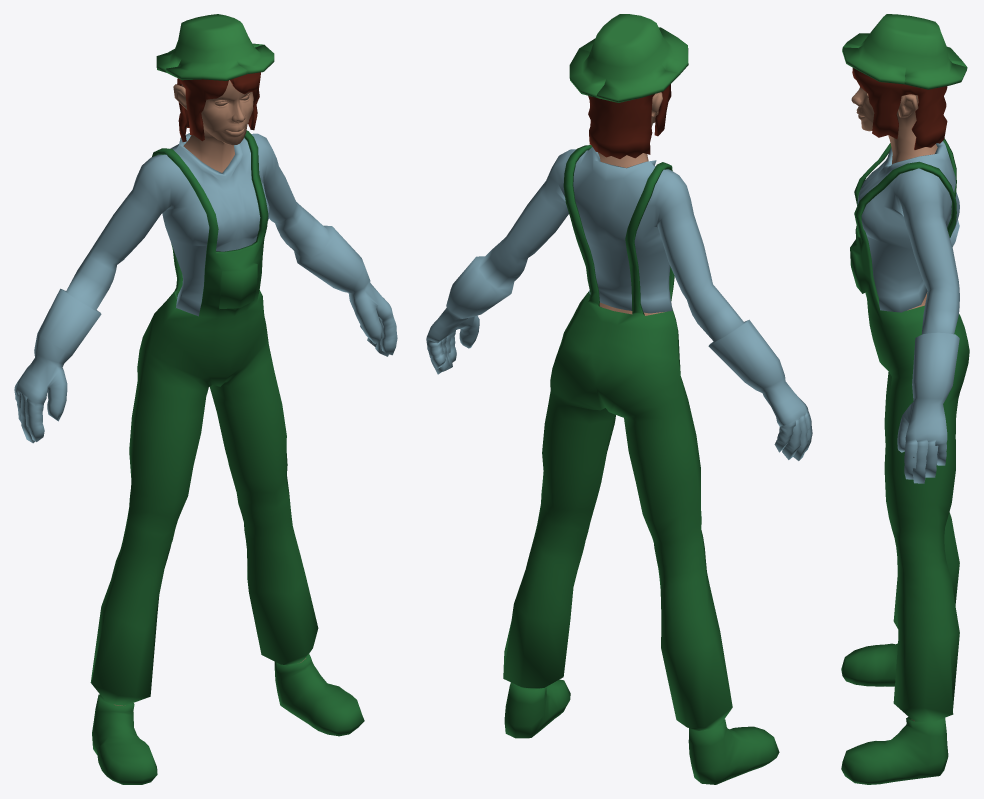
Rendered from player 1.fbx.
The picture shows the model from 3 angles, left to right: view 1: azimuth 30°, elevation 25°; view 2: azimuth 150°, elevation 25°; view 3: azimuth 270°, elevation 25°; orthographic projection. The views are drawn at different scales.
Parts seen in each view (by area): view 1: Pants, Shirt, Hat, Body, Hair; view 2: Pants, Shirt, Hat, Hair, Body; view 3: Pants, Shirt, Hat, Hair, Body.
Boxes of the visible parts, bbox=[...] form: Pants: bbox=[90, 130, 364, 784]; Shirt: bbox=[14, 133, 397, 443]; Hat: bbox=[156, 14, 274, 80]; Body: bbox=[114, 80, 305, 705]; Hair: bbox=[177, 72, 260, 141]; Pants: bbox=[503, 145, 779, 784]; Shirt: bbox=[426, 147, 812, 460]; Hat: bbox=[569, 14, 688, 102]; Hair: bbox=[588, 84, 671, 158]; Body: bbox=[598, 92, 664, 315]; Pants: bbox=[841, 138, 969, 784]; Shirt: bbox=[857, 141, 959, 483]; Hat: bbox=[842, 14, 967, 89]; Hair: bbox=[852, 68, 947, 149]; Body: bbox=[851, 87, 937, 721].
Bounding box in the file's own units: 108 × 201 × 33.17.
Materials: 5 (3 with a texture image).
